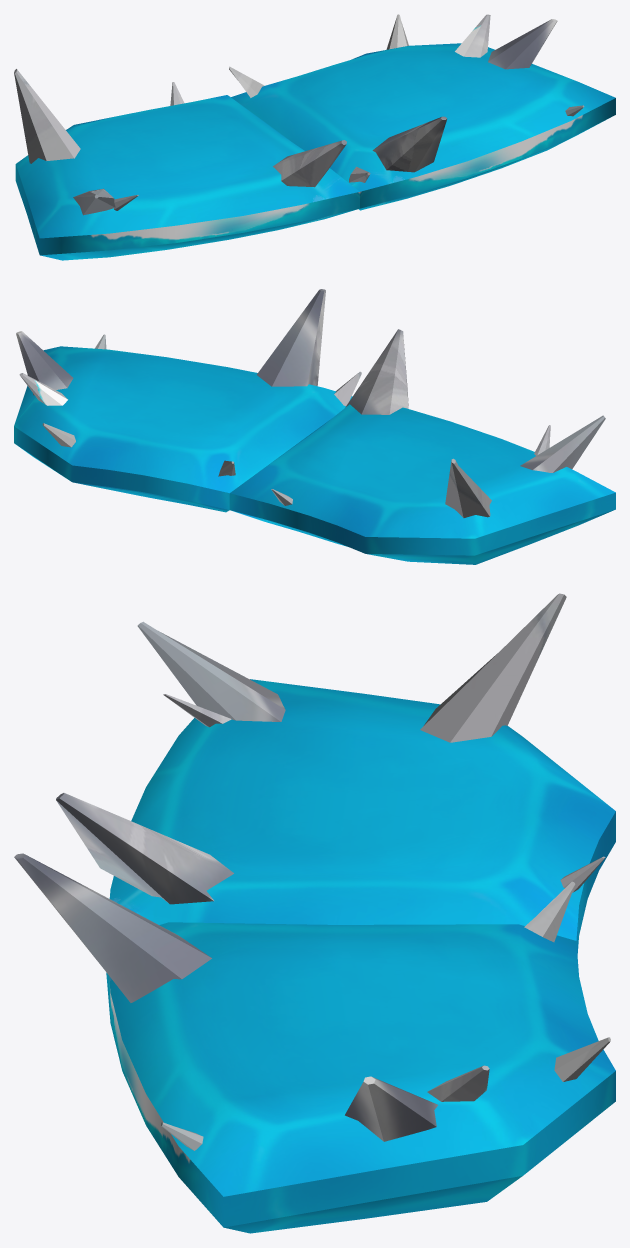
File: Corruption_Tile_MDL (1).fbx
3 renders of one model, top to bottom at view 1: azimuth 30°, elevation 25°; view 2: azimuth 150°, elevation 25°; view 3: azimuth 270°, elevation 25°, orthographic. The views are drawn at different scales.
Parts seen in each view (by area): view 1: Right_Wing_Tile, Left_Wing_Tile; view 2: Right_Wing_Tile, Left_Wing_Tile; view 3: Left_Wing_Tile, Right_Wing_Tile.
Boxes of the visible parts, <box> form: Right_Wing_Tile: <box>14,69,359,260</box>; Left_Wing_Tile: <box>229,14,615,210</box>; Right_Wing_Tile: <box>229,329,615,564</box>; Left_Wing_Tile: <box>14,289,361,512</box>; Left_Wing_Tile: <box>14,853,615,1233</box>; Right_Wing_Tile: <box>56,593,615,954</box>.
Bounding box in the file's own units: 336 × 66.94 × 167.
